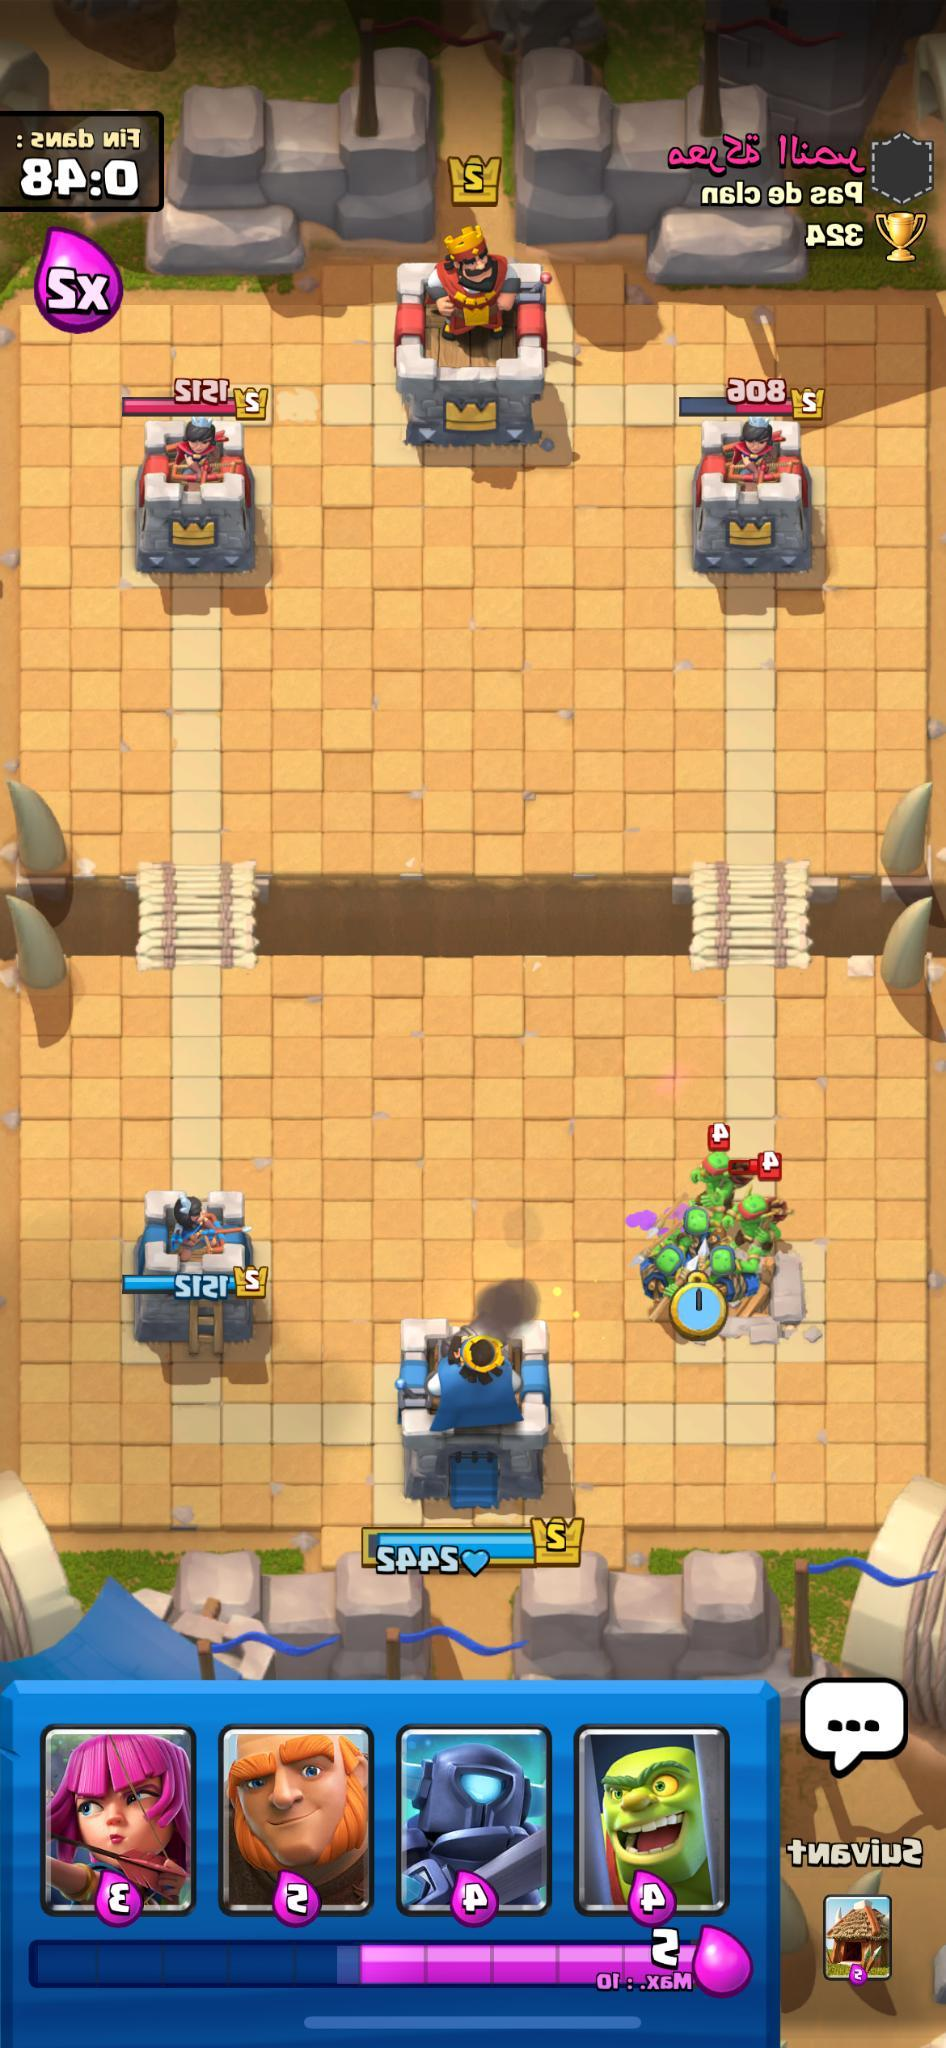enemy_spear_goblins: (736, 1173, 795, 1250), (689, 1130, 747, 1207)
player_spear_goblins: (699, 1242, 769, 1309), (633, 1230, 692, 1306), (667, 1199, 732, 1260)
